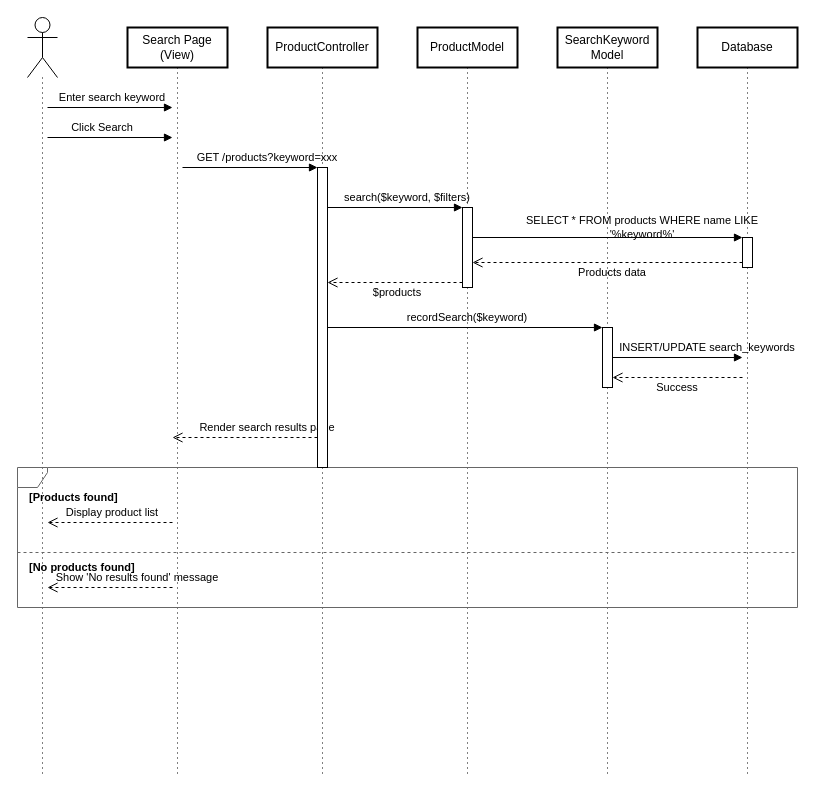
The diagram is 816 pixels wide and 796 high, and some of its shapes have lost their labels. Each missing label, with the box of its shape:
alt: (16, 466, 798, 608)
User: (26, 16, 58, 78)
